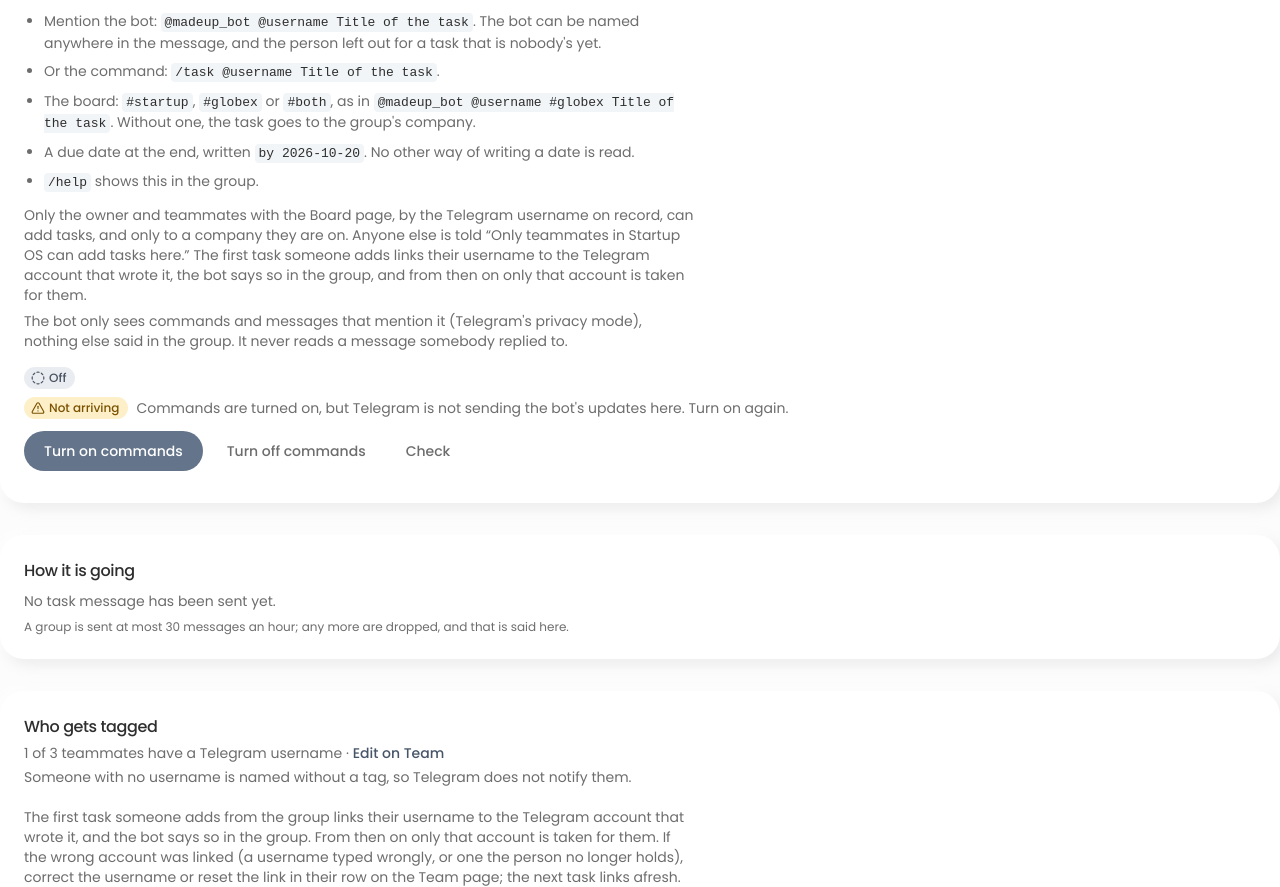
Test case: the Commands panel › a refusal to start is shown in the server's words
(page scrolled)
Click the button "Turn on commands". click: (113,451)
box: left=24, top=431, right=203, bottom=471
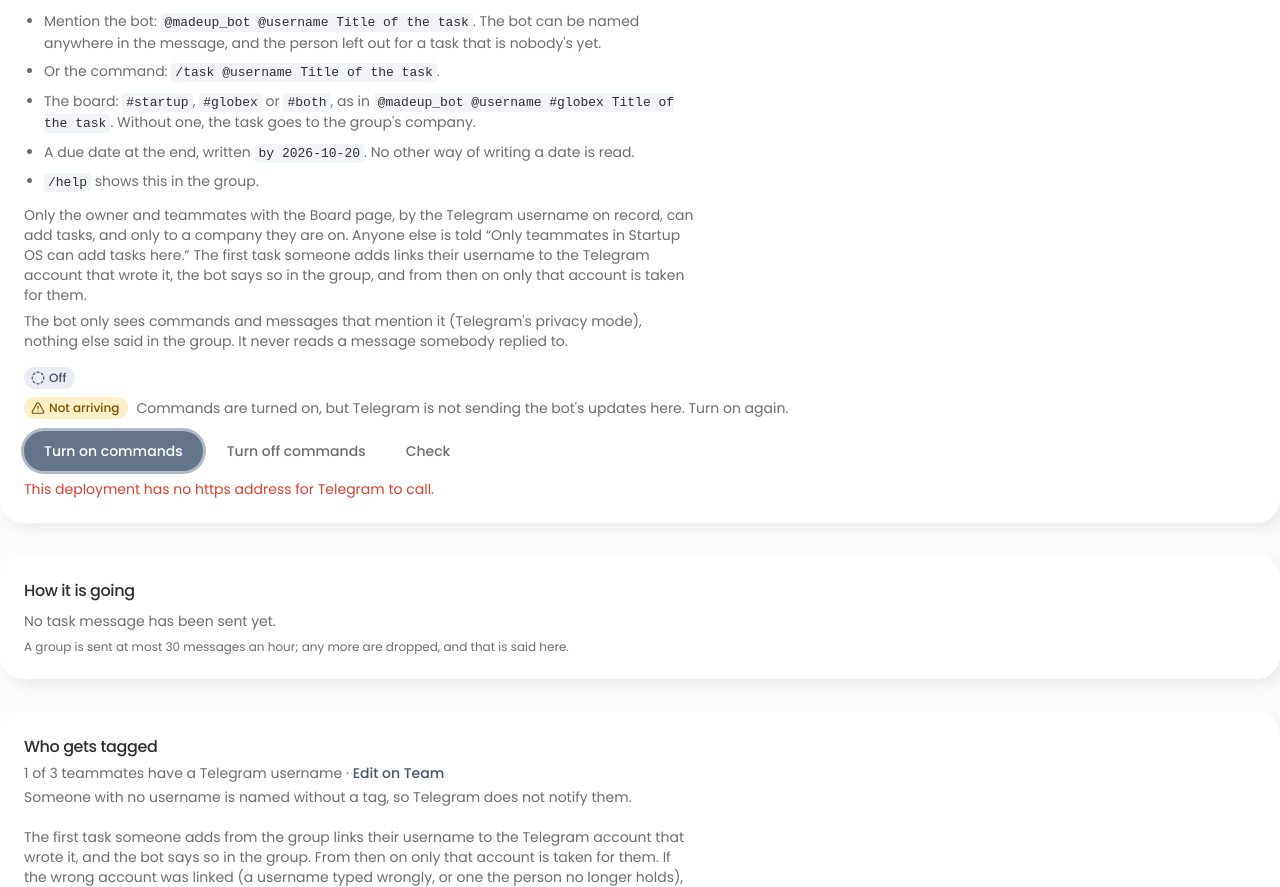
Expected: the message reads "This deployment has no https address for Telegram to call.", left=24, top=479, right=434, bottom=499
